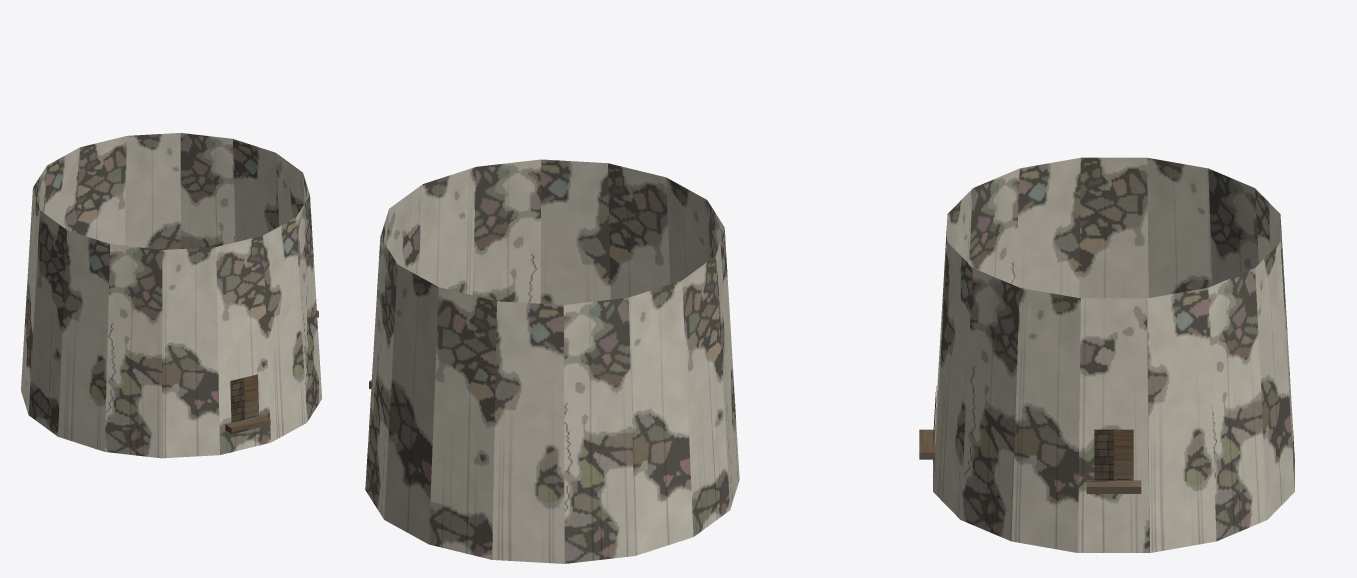
File: moulin_corps_use_1.obj
3 renders of one model, left to right at view 1: azimuth 30°, elevation 25°; view 2: azimuth 150°, elevation 25°; view 3: azimuth 270°, elevation 25°, orthographic. The views are drawn at different scales.
Parts seen in each view (by area): view 1: corps; view 2: corps; view 3: corps.
Boxes of the visible parts, left/top/right/bottom form: corps: left=21, top=133, right=321, bottom=458; corps: left=365, top=159, right=739, bottom=563; corps: left=919, top=157, right=1294, bottom=552.
Bounding box in the file's own units: 5.84 × 8.64 × 8.67.
